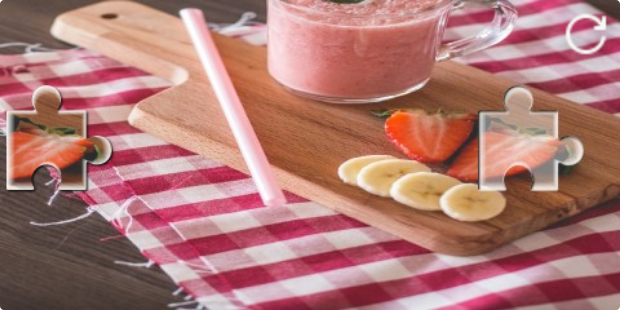target: (478, 85, 584, 191)
